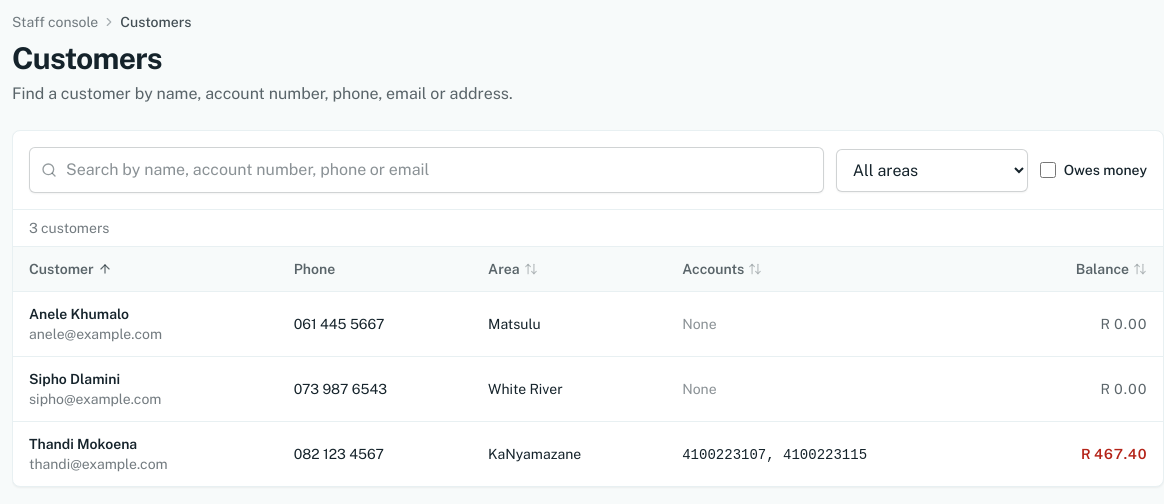
Test: CustomersPage › says so when nothing matches
Expected: the text "3 customers" is shown, [13, 210, 1163, 247]
Type "nobody at all" into the search field at [426, 170], box [29, 147, 824, 193]
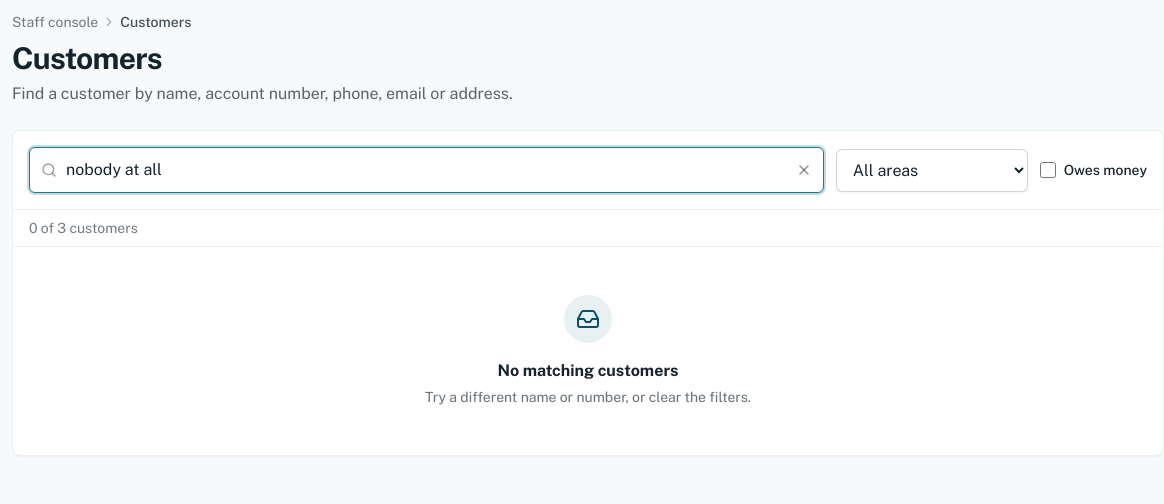
Now the heading "No matching customers" is shown, box [498, 359, 678, 383]
